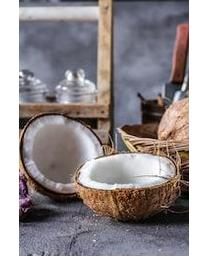coconut: (20, 111, 108, 200), (73, 151, 181, 222)
